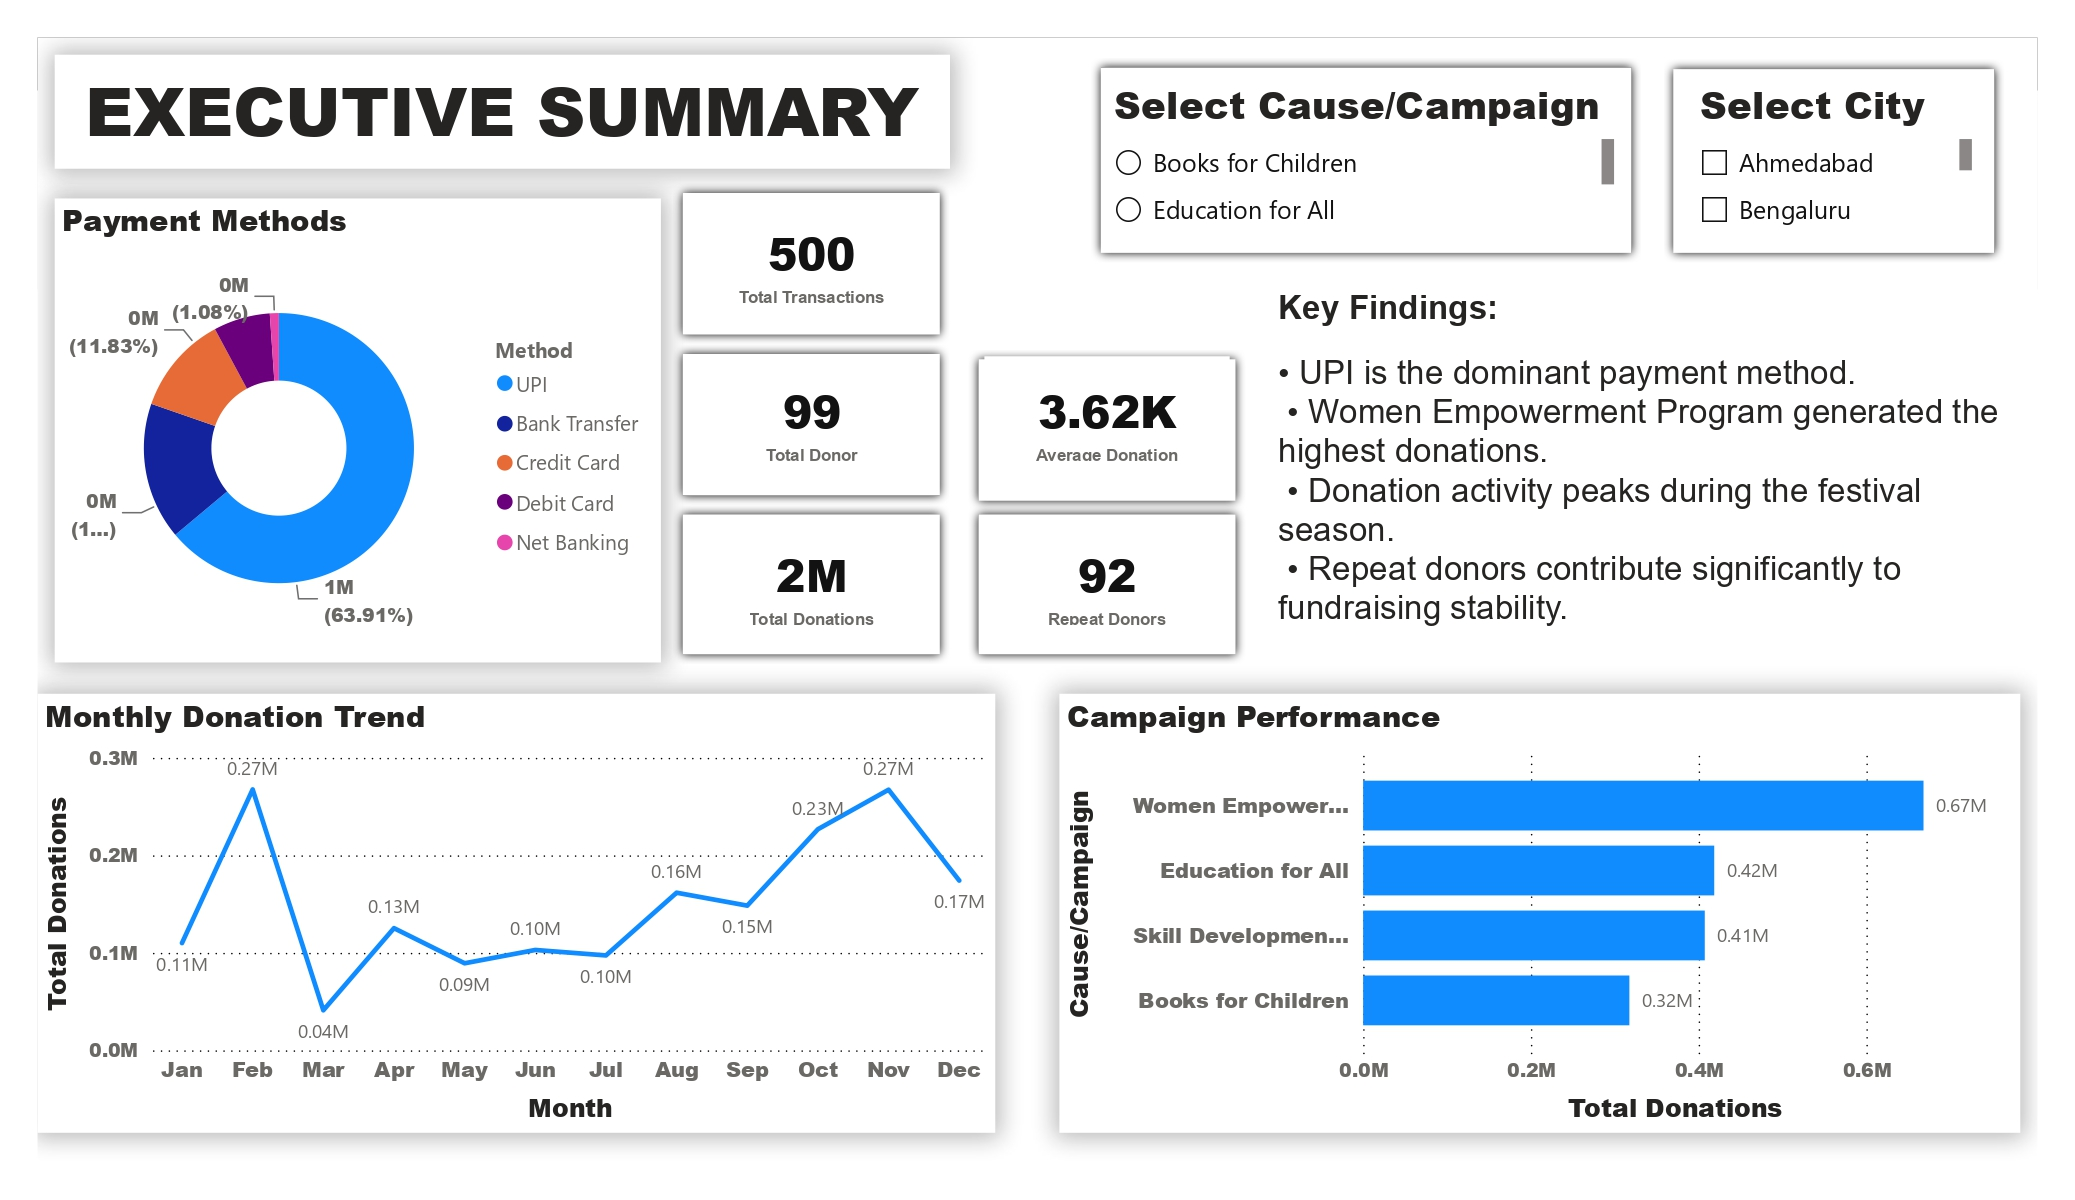

The page's visual inventory and layout, read from the dashboard file:
{"tool":"powerbi","page":{"name":"Page 1","canvas":[1280,720],"ordinal":0},"visuals":[{"type":"donutChart","title":"Payment Methods","fields":{"Category":["NayePankh Donations.Method"],"Y":["NayePankh Donations.Total Donations"]},"box":[11.4,102.9,387.1,297.1],"z":0},{"type":"shape","box":[674.3,12.9,351.4,131.4],"z":1000},{"type":"listSlicer","title":"Select Cause/Campaign","fields":{"Values":["NayePankh Donations.Cause/Campaign"]},"box":[684.3,25.7,330,102.9],"z":2000},{"type":"textbox","box":[11.4,11.4,572.9,72.9],"z":3000},{"type":"shape","box":[1041.4,14.3,217.1,130],"z":4000},{"type":"listSlicer","title":"Select City","fields":{"Values":["NayePankh Donations.City"]},"box":[1058.6,25.7,184.3,102.9],"z":5000},{"type":"shape","box":[407.1,92.9,177.1,102.9],"z":6000},{"type":"cardVisual","fields":{"Data":["NayePankh Donations.Average Donation"]},"box":[868.6,545.7,188.6,125.7],"z":7000},{"type":"clusteredBarChart","title":"Campaign Performance","fields":{"Y":["NayePankh Donations.Total Donations"],"Category":["NayePankh Donations.Cause/Campaign"]},"box":[654.3,420,614.3,281.4],"z":8000},{"type":"cardVisual","fields":{"Data":["NayePankh Donations.Total Transactions"]},"box":[417.1,102.9,157.1,84.3],"z":9000},{"type":"shape","box":[595.7,200,177.1,102.9],"z":10000},{"type":"shape","box":[595.7,298.6,177.1,102.9],"z":11000},{"type":"shape","box":[407.1,298.6,177.1,102.9],"z":12000},{"type":"shape","box":[407.1,195.7,177.1,102.9],"z":13000},{"type":"cardVisual","fields":{"Data":["NayePankh Donations.Total Donations"]},"box":[417.1,308.6,157.1,84.3],"z":14000},{"type":"cardVisual","fields":{"Data":["NayePankh Donations.Total Donor"]},"box":[417.1,204.3,157.1,84.3],"z":15000},{"type":"cardVisual","fields":{"Data":["NayePankh Donations.Repeat Donors"]},"box":[605.7,308.6,157.1,84.3],"z":16000},{"type":"cardVisual","fields":{"Data":["NayePankh Donations.Average Donation"]},"box":[605.7,204.3,157.1,84.3],"z":17000},{"type":"lineChart","title":"Monthly Donation Trend","fields":{"Category":["Calendar.Month"],"Y":["NayePankh Donations.Total Donations"]},"box":[0,420,612.9,281.4],"z":18000},{"type":"textbox","box":[788.6,155.7,480,244.3],"z":19000}]}

Visuals, with their boxes on the page's 1280x720 design canvas (x1, y1, x2, y2). These are canvas units, not pixel positions in the 2075x1200 screenshot, which may show the page scaled, cropped or inside an application window:
"Payment Methods" donutChart: (left=11, top=103, right=398, bottom=400)
shape: (left=674, top=13, right=1026, bottom=144)
"Select Cause/Campaign" listSlicer: (left=684, top=26, right=1014, bottom=129)
textbox: (left=11, top=11, right=584, bottom=84)
shape: (left=1041, top=14, right=1258, bottom=144)
"Select City" listSlicer: (left=1059, top=26, right=1243, bottom=129)
shape: (left=407, top=93, right=584, bottom=196)
cardVisual - NayePankh Donations.Average Donation: (left=869, top=546, right=1057, bottom=671)
"Campaign Performance" clusteredBarChart: (left=654, top=420, right=1269, bottom=701)
cardVisual - NayePankh Donations.Total Transactions: (left=417, top=103, right=574, bottom=187)
shape: (left=596, top=200, right=773, bottom=303)
shape: (left=596, top=299, right=773, bottom=402)
shape: (left=407, top=299, right=584, bottom=402)
shape: (left=407, top=196, right=584, bottom=299)
cardVisual - NayePankh Donations.Total Donations: (left=417, top=309, right=574, bottom=393)
cardVisual - NayePankh Donations.Total Donor: (left=417, top=204, right=574, bottom=289)
cardVisual - NayePankh Donations.Repeat Donors: (left=606, top=309, right=763, bottom=393)
cardVisual - NayePankh Donations.Average Donation: (left=606, top=204, right=763, bottom=289)
"Monthly Donation Trend" lineChart: (left=0, top=420, right=613, bottom=701)
textbox: (left=789, top=156, right=1269, bottom=400)
